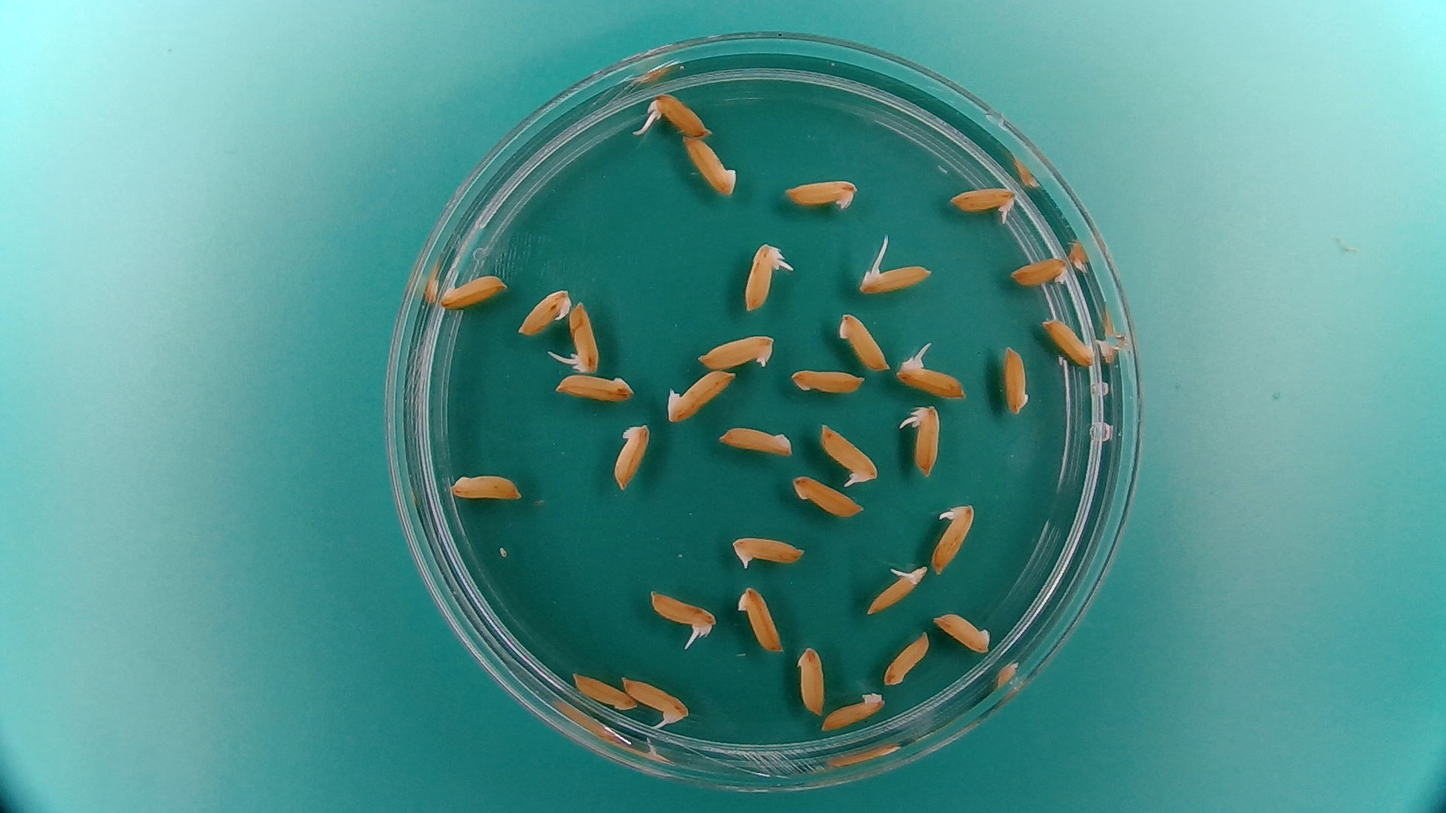no: (663, 365, 740, 425), (679, 135, 741, 199), (734, 580, 786, 655), (834, 307, 891, 374), (788, 472, 865, 519), (608, 416, 653, 494), (712, 420, 796, 460), (1039, 312, 1100, 367), (779, 172, 859, 213), (568, 670, 640, 714), (929, 607, 995, 655), (880, 628, 932, 687), (438, 272, 513, 312), (820, 688, 888, 732), (448, 465, 526, 501), (786, 365, 868, 397), (793, 642, 827, 717), (1007, 249, 1071, 288), (1002, 340, 1033, 417)
yes: (740, 236, 796, 317), (816, 420, 880, 489), (929, 498, 977, 576), (692, 329, 779, 372), (645, 586, 714, 637), (514, 284, 576, 339), (865, 564, 929, 617), (622, 678, 687, 730), (727, 530, 807, 572), (900, 403, 943, 481), (894, 357, 969, 401), (561, 297, 602, 376), (649, 90, 714, 139), (550, 370, 642, 404), (946, 181, 1020, 221), (856, 263, 929, 296)
